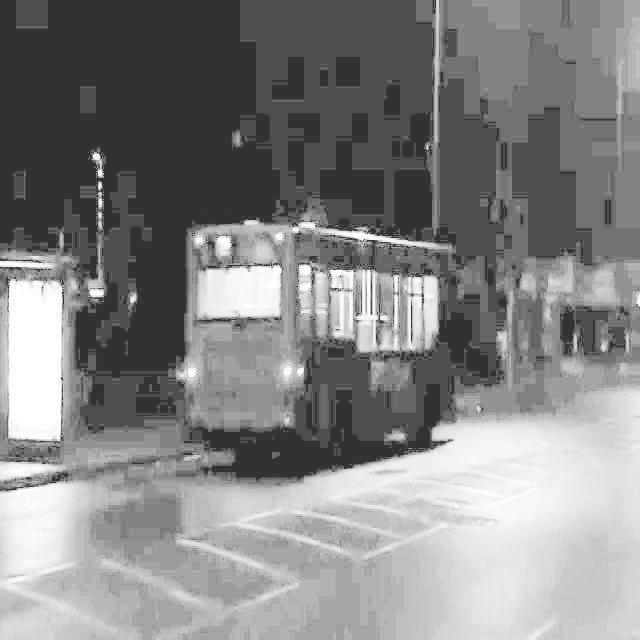Bus: (186, 202, 469, 473)
